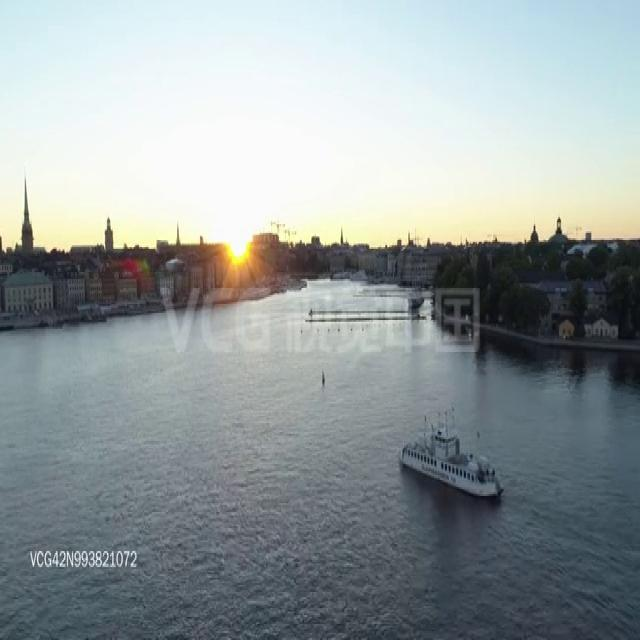passenger ship: (398, 405, 505, 494)
